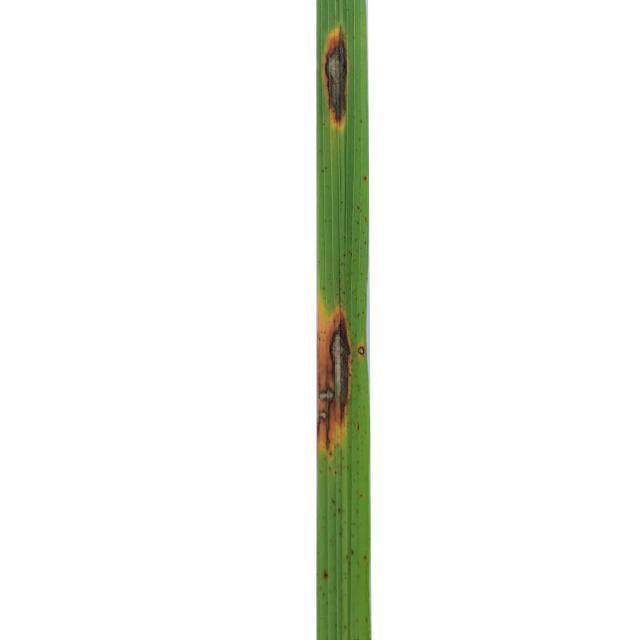Leaf_Blast: (317, 24, 358, 145)
